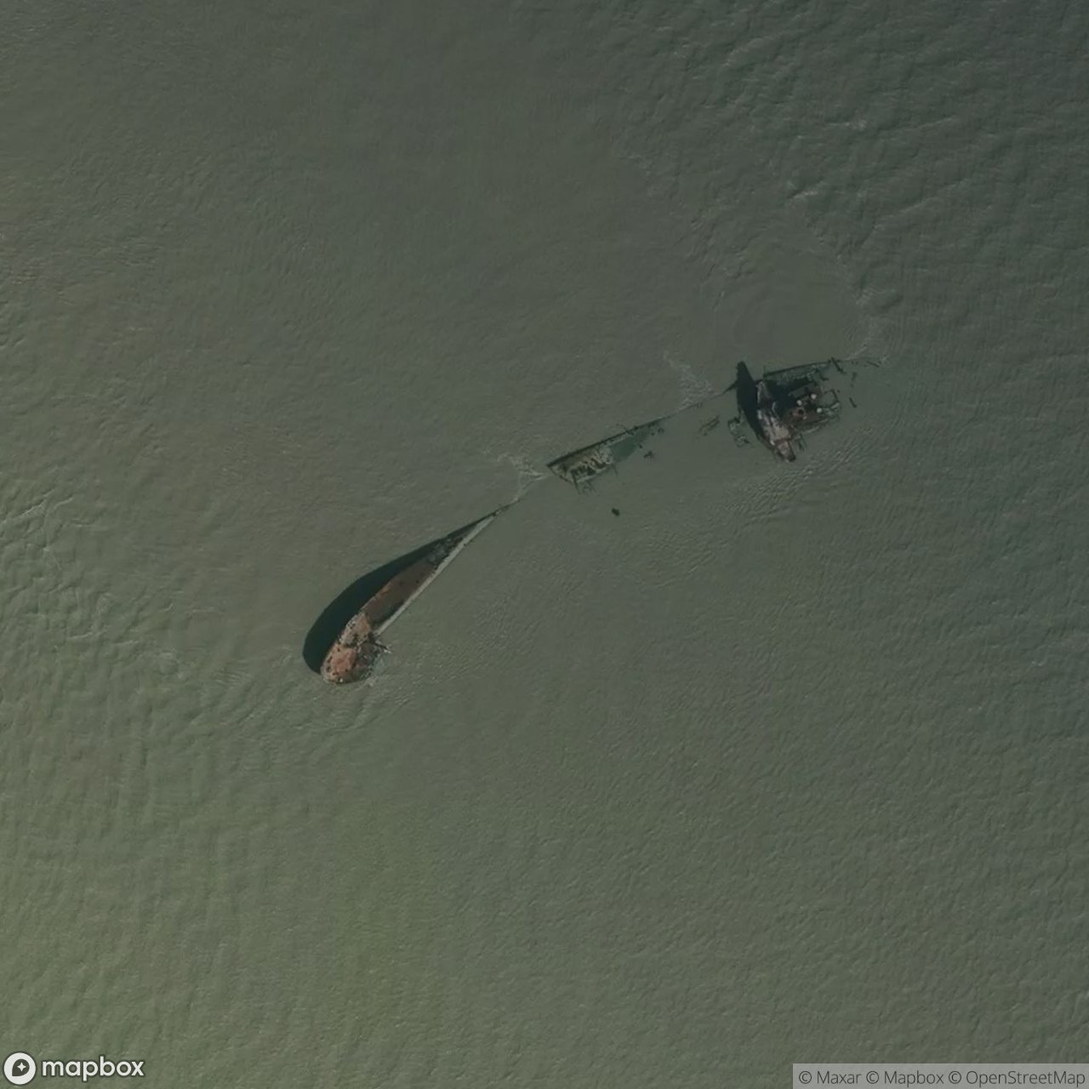Wreck: (226, 592, 914, 771)
